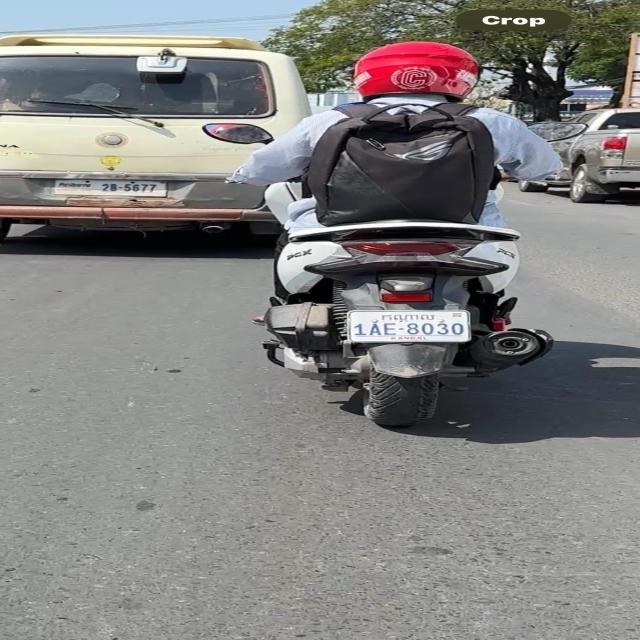Kampong_Cham: (57, 182, 95, 189)
Kandal: (377, 312, 438, 322)
